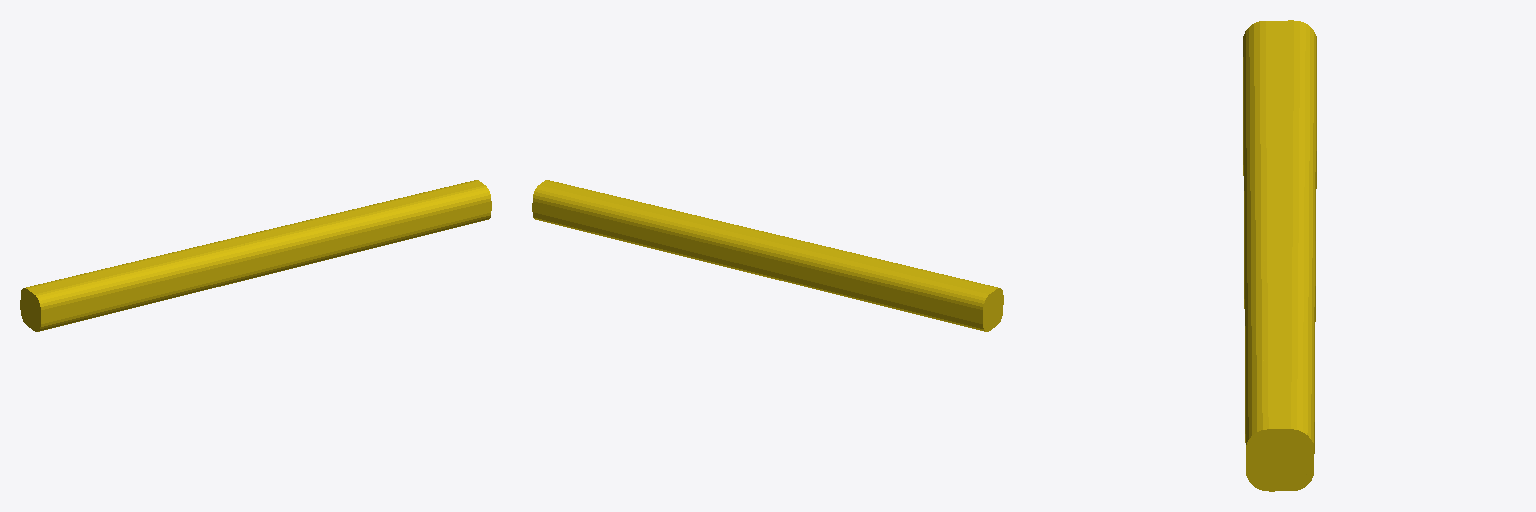
URDF robot description (cb_chopstick_t45d120):
<?xml version="1.0"?>
<!-- ContactBench chopstick. Generated by FoundationTouch tools/contactbench/make_contactbench_assets.py -->
<robot name="cb_chopstick_t45d120">
  <material name="c"><color rgba="0.85 0.75 0.10 1.0"/></material>
  <link name="object">
    <visual><origin xyz="0 0 0" rpy="0 0 0"/><geometry><mesh filename="chopstick.obj" scale="1 1 1"/></geometry><material name="c"/></visual>
    <collision><origin xyz="0 0 0" rpy="0 0 0"/><geometry><mesh filename="coll_00.obj" scale="1 1 1"/></geometry></collision>
    <inertial><mass value="1.346470e-03"/><origin xyz="0 0 0" rpy="0 0 0"/><inertia ixx="5.378385e-09" ixy="4.653017e-16" ixz="-1.525207e-16" iyy="5.512021e-07" iyz="1.351445e-15" izz="5.512021e-07"/></inertial>
  </link>
</robot>

--- Facts derived from the render (not from the file) ---
Views: 3 orthographic renders of the robot side by side, from view 1: azimuth 30°, elevation 25°; view 2: azimuth 150°, elevation 25°; view 3: azimuth 270°, elevation 25°.
Robot: cb_chopstick_t45d120 — 1 links, 0 joints (none); root link object; default pose: all joints at 0.
Links seen in each view (by area): view 1: object; view 2: object; view 3: object.
Boxes of the visible links, x1,y1,x2,y2 form: object: (20,180,491,331); object: (532,180,1003,331); object: (1243,20,1316,491).
Bounding box of the posed robot: 0.07 × 0.0055 × 0.0055 m (x, y, z).
1 mesh visuals loaded from 1 distinct referenced files (1 OBJ).
